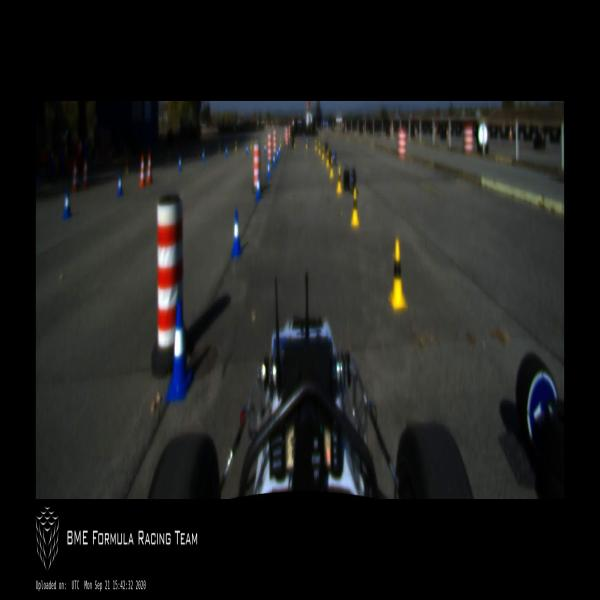blue_cone: (166, 300, 194, 404), (231, 210, 242, 256), (62, 189, 72, 219), (255, 173, 261, 202), (117, 173, 123, 196), (266, 159, 270, 179), (178, 156, 182, 173), (272, 152, 276, 168), (246, 142, 249, 158), (225, 144, 228, 159), (276, 147, 278, 162), (278, 145, 281, 155), (202, 148, 204, 162), (264, 142, 266, 154)
large_orange_cone: (138, 154, 146, 188), (71, 159, 78, 193), (146, 153, 153, 185), (82, 159, 89, 190)
orange_cone: (508, 122, 512, 138)
yellow_cone: (388, 238, 408, 310), (351, 187, 360, 228), (336, 166, 342, 195), (329, 156, 334, 177), (326, 148, 329, 167), (126, 161, 129, 179), (318, 142, 321, 154), (314, 138, 317, 150), (250, 139, 253, 150), (322, 144, 324, 159), (305, 138, 308, 148), (280, 136, 282, 147), (235, 142, 237, 151), (294, 138, 296, 147), (219, 142, 220, 154)
